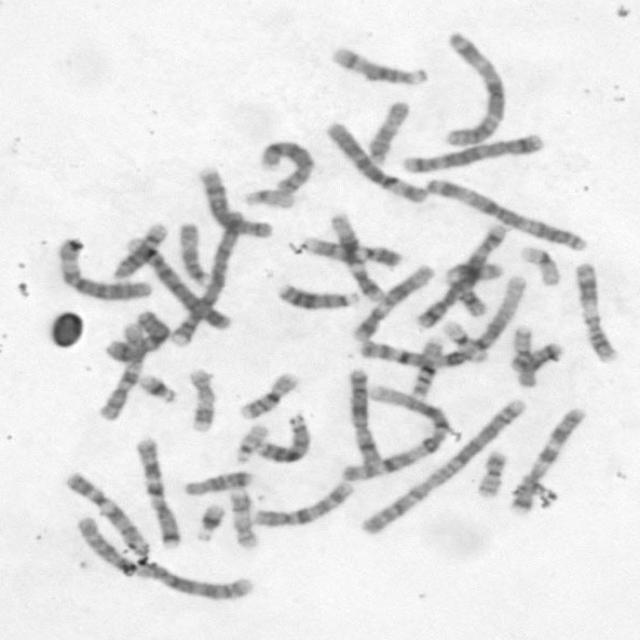A1: (356, 271, 531, 370), (335, 373, 452, 482)
A2: (355, 395, 531, 537), (74, 516, 250, 600)
A3: (422, 174, 589, 252), (438, 28, 508, 148)
B4: (118, 234, 234, 331), (166, 209, 245, 350)
B5: (411, 220, 511, 330), (398, 130, 546, 174)
C10: (247, 477, 357, 530), (94, 321, 148, 422)
C11: (572, 258, 620, 364), (443, 261, 502, 315)
C12: (349, 259, 436, 342), (326, 212, 386, 302)
C6: (320, 118, 430, 205), (52, 234, 155, 302)
C7: (505, 404, 589, 514), (132, 433, 184, 549)
C8: (194, 163, 275, 239), (255, 136, 316, 195)
C9: (64, 472, 158, 557), (298, 233, 404, 269)
D13: (252, 410, 312, 464), (273, 279, 358, 311)
D14: (326, 44, 429, 88), (107, 218, 170, 281)
D15: (364, 98, 412, 165), (174, 218, 210, 288)
E16: (235, 370, 301, 421), (407, 334, 446, 400)
E17: (226, 484, 261, 550), (184, 365, 217, 435)
E18: (505, 339, 565, 379), (180, 466, 255, 497)
F19: (438, 316, 489, 364), (516, 241, 563, 288)
F20: (470, 447, 510, 499), (505, 325, 545, 375)
G21: (191, 500, 228, 543), (136, 371, 179, 405)
G22: (231, 420, 271, 464), (240, 184, 299, 213)
X: (344, 365, 383, 470), (100, 308, 172, 364)
